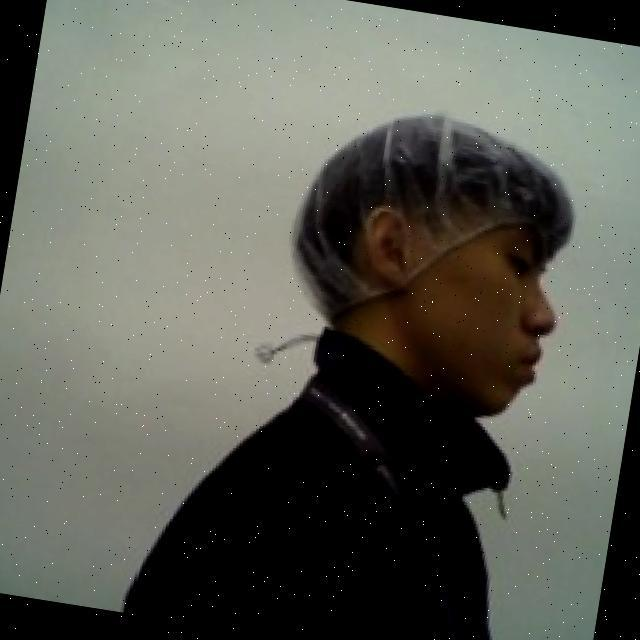gloves: (280, 90, 589, 334)
no_hairnet: (337, 223, 570, 431)
